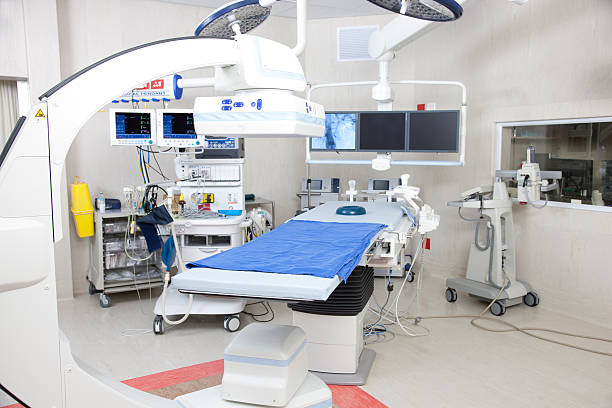bedside_monitor: (406, 108, 463, 160), (356, 110, 408, 160), (307, 110, 358, 151), (158, 106, 202, 149), (114, 107, 159, 148)
operating_bed: (174, 200, 418, 383)
surgical_light: (193, 1, 270, 38), (364, 1, 463, 22)
utility_cart: (89, 211, 174, 307)
ventilator: (162, 152, 248, 303)
